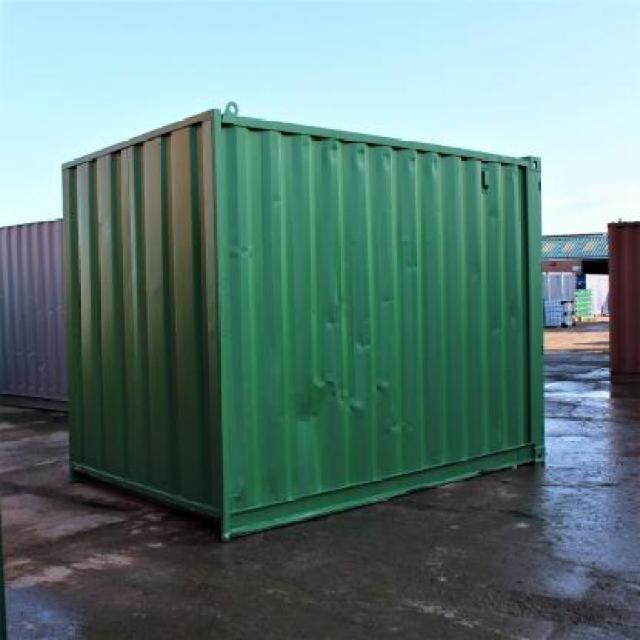Minor-Dent: (315, 377, 363, 417), (293, 391, 326, 434), (382, 417, 416, 437), (372, 382, 391, 400), (228, 244, 251, 258), (352, 151, 366, 171), (325, 146, 339, 166), (382, 155, 391, 174), (408, 159, 417, 173), (300, 143, 309, 157), (490, 212, 499, 223), (431, 162, 438, 176)
